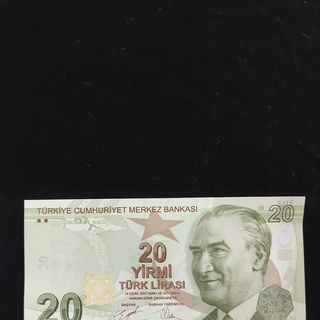20TLFront: (23, 196, 306, 320)
